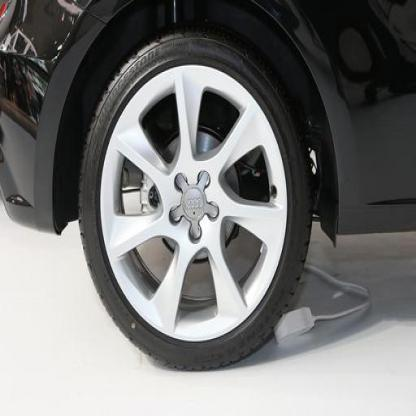Tire: (76, 28, 314, 371)
